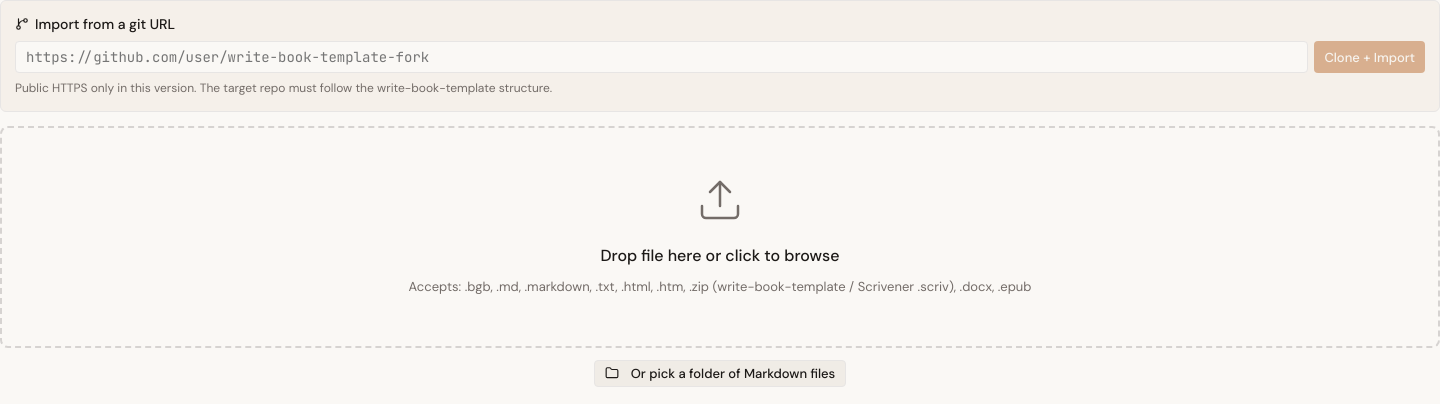
Test: UploadStep › git URL submit button is disabled until something is typed
Expected: the button with test id "git-url-submit" is disabled, [1314,41,1425,73]
Type "https://github.com/foo/bar" into the field with test id "git-url-input".
click(662, 57); type("https://github.com/foo/bar")  # box [15,41,1308,73]
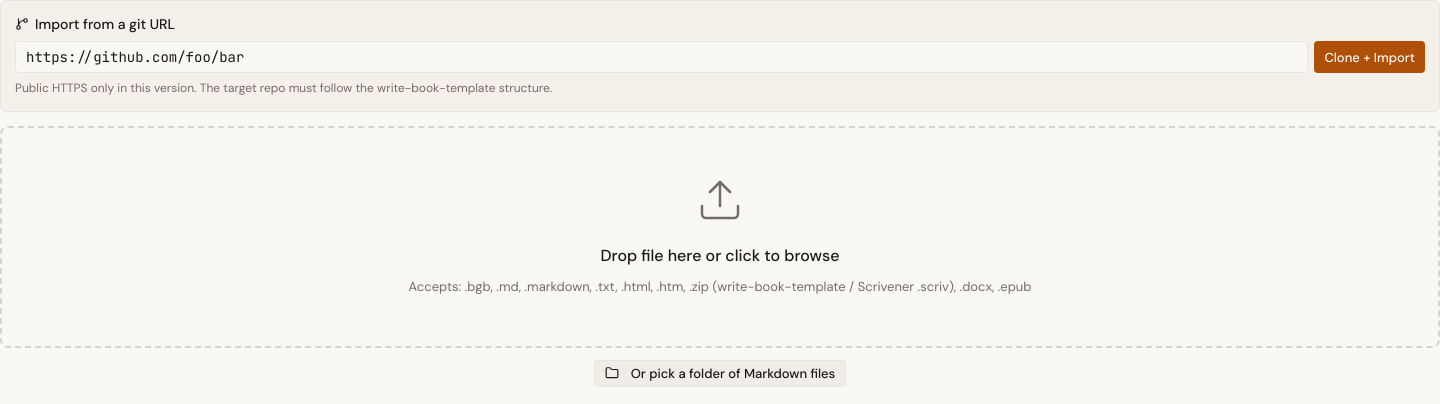
Expected: the button with test id "git-url-submit" is enabled, [1314,41,1425,73]
